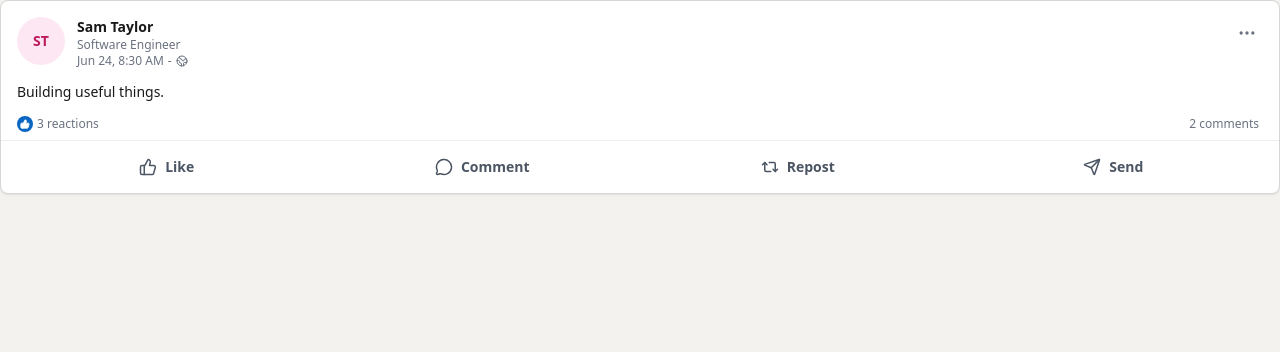
FeedPostCard › opens the comment box and submits a non-empty comment
Step 1. Click the button "Comment" → (482, 167), box x1=324 y1=145 x2=640 y2=189
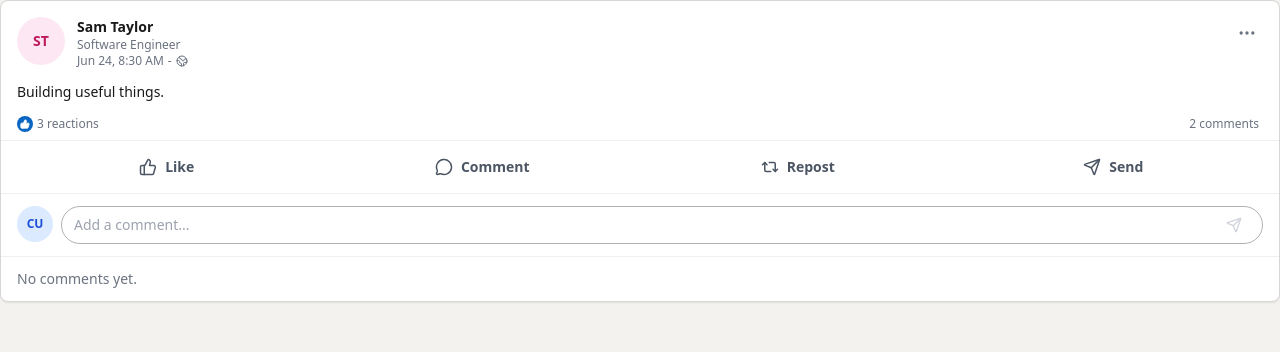
Step 2. Type "Nice update" into the field with placeholder "Add a comment..." → (646, 225), box x1=74 y1=207 x2=1218 y2=243
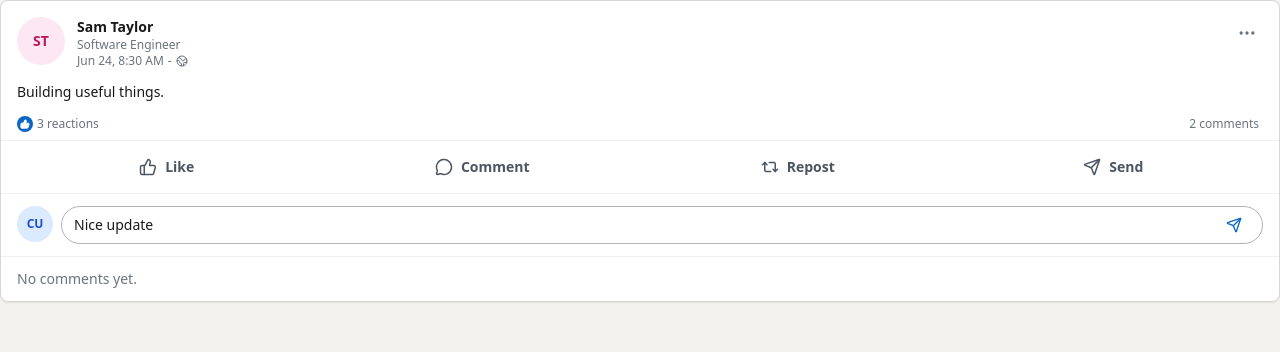
Step 3. Click the button titled "post comment" → (1234, 225), box x1=1218 y1=209 x2=1250 y2=241
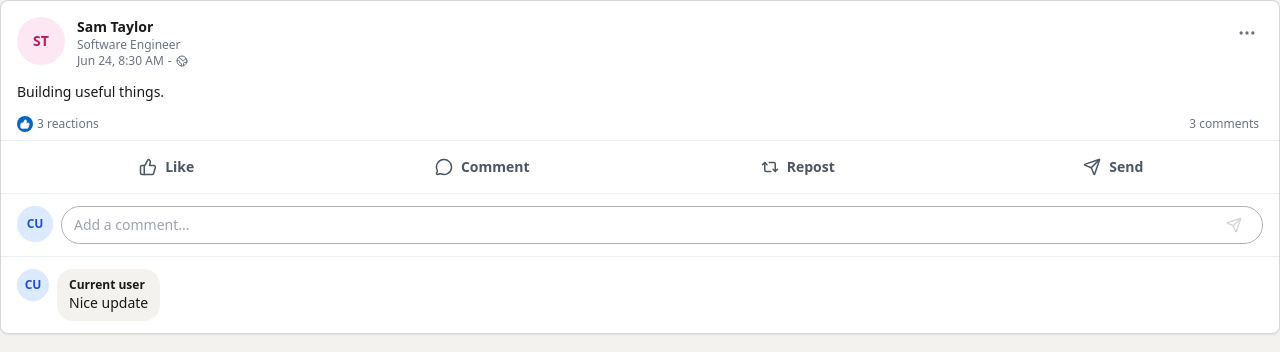
Result: the button "3 comments" is shown at x1=1185 y1=116 x2=1263 y2=132
